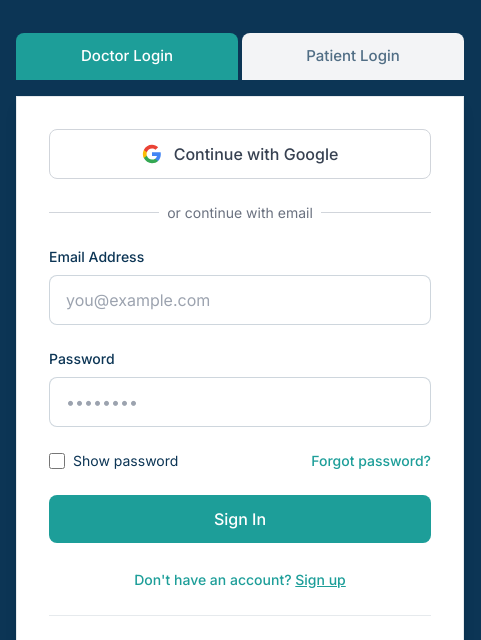
LoginScreen › sign up mode › shows doctor name field for doctor sign up
Click the text "Sign up".
click(321, 579)  # box [295,570,346,588]
(page scrolled)
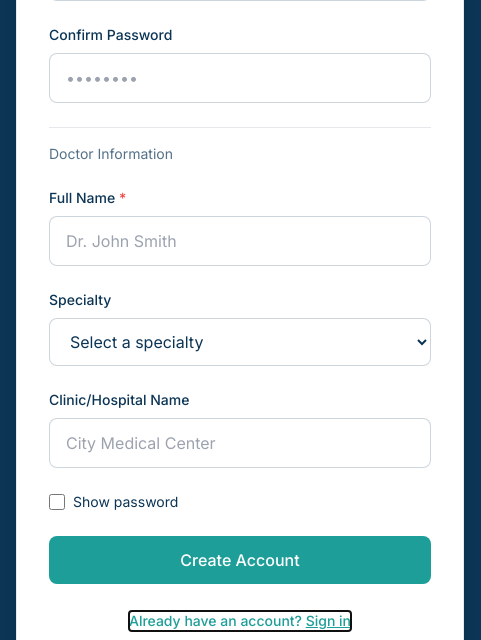
Expected: the field labelled "Full Name *" is shown, [49,216,431,266]
